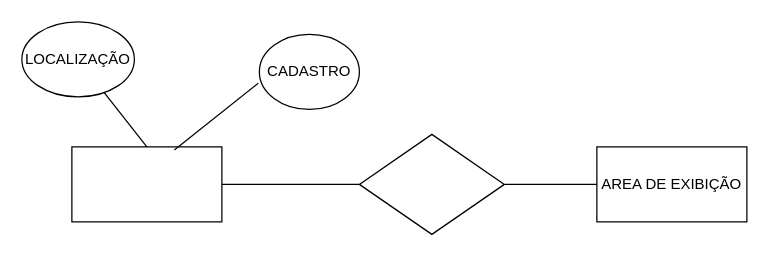
Some shapes in this 769 by 256 pixel diagram are drawn without their labels. The shapes that lost their labels are listed below. From the top down, each one's box as (x1, y1, x2, y2) in pixels, then its label:
(71, 146, 222, 222): ZOOLÓGICO
(358, 133, 504, 234): POSSUI
